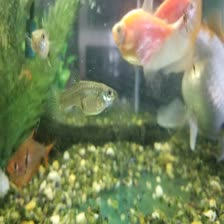Guppy: (50, 70, 123, 118), (24, 22, 55, 74)
Plano: (114, 5, 188, 58)
Transparente: (3, 126, 60, 184)
